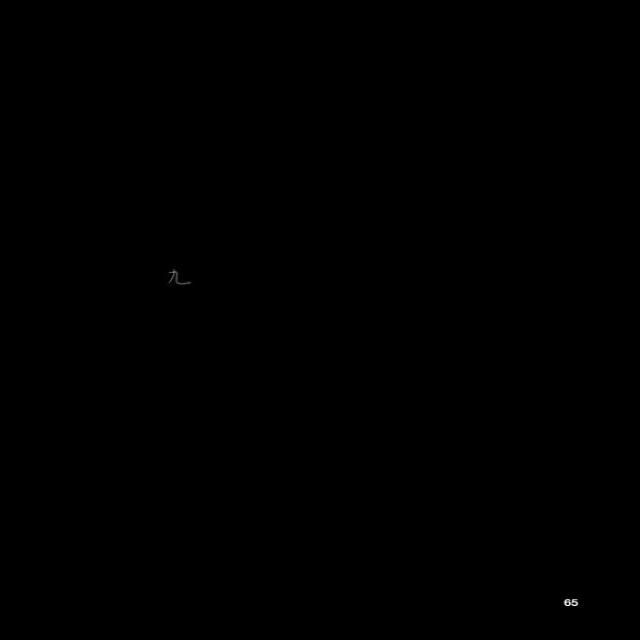9 -nine-: (162, 267, 193, 287)
